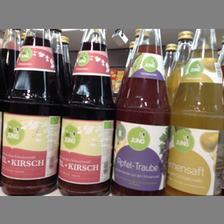juice: (110, 28, 171, 195), (1, 30, 60, 195), (167, 29, 223, 196), (58, 29, 114, 194)
